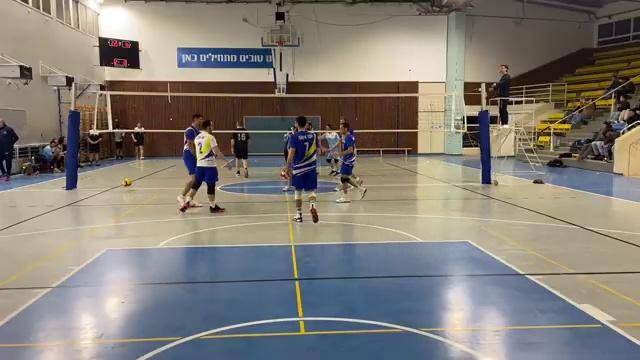ball: (120, 176, 134, 189)
